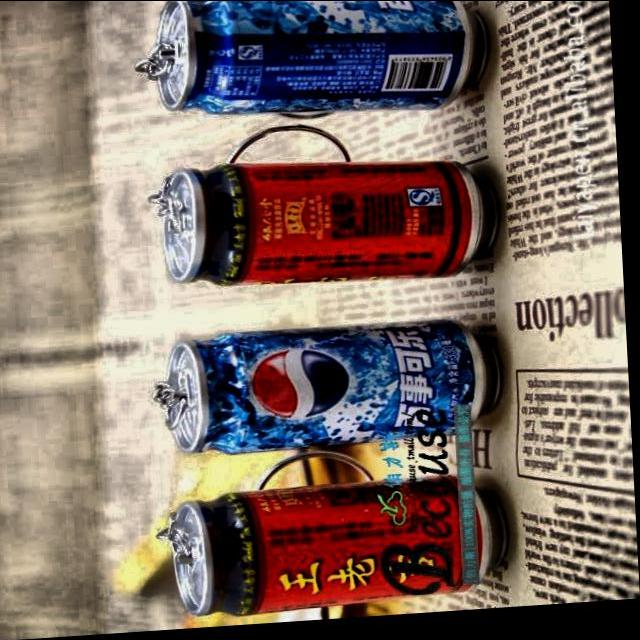Aluminum Can: (146, 468, 511, 625), (152, 312, 500, 464), (143, 160, 504, 304), (135, 0, 504, 133)
